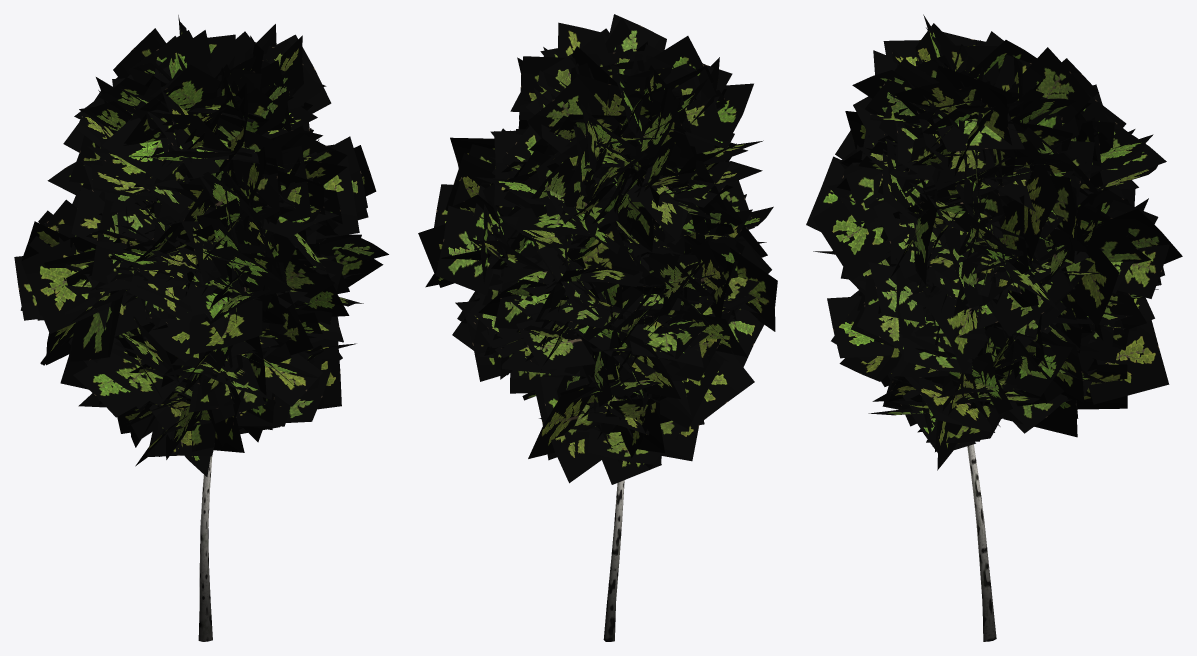
The model's file is briza_mlada.glb.
3 views of the same model, side by side, from view 1: azimuth 30°, elevation 25°; view 2: azimuth 150°, elevation 25°; view 3: azimuth 270°, elevation 25° (orthographic). The views are drawn at different scales.
Parts seen in each view (by area): view 1: briza_mlada; view 2: briza_mlada; view 3: briza_mlada.
Boxes of the visible parts, x1,y1,x2,y2 form: briza_mlada: [14, 15, 388, 641]; briza_mlada: [418, 14, 777, 641]; briza_mlada: [806, 14, 1182, 641].
Size of the model in its own units: 4.77 by 8.17 by 4.63.
2 materials, 2 textured.
